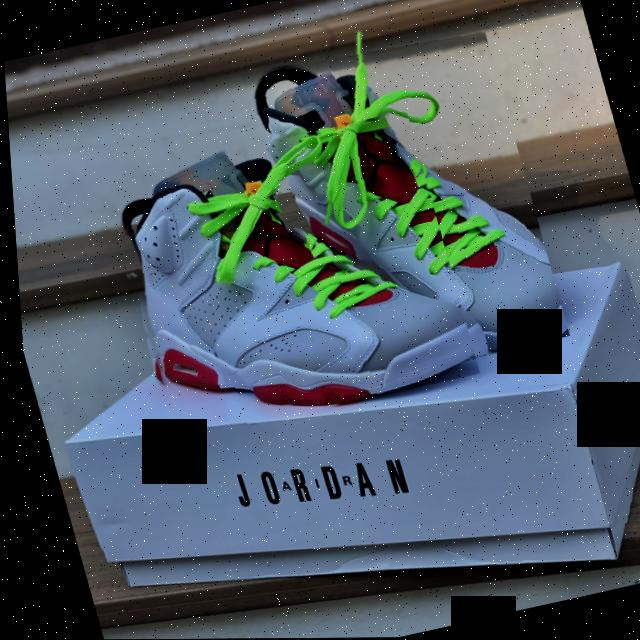shoe: (90, 108, 478, 443), (225, 20, 567, 392)
